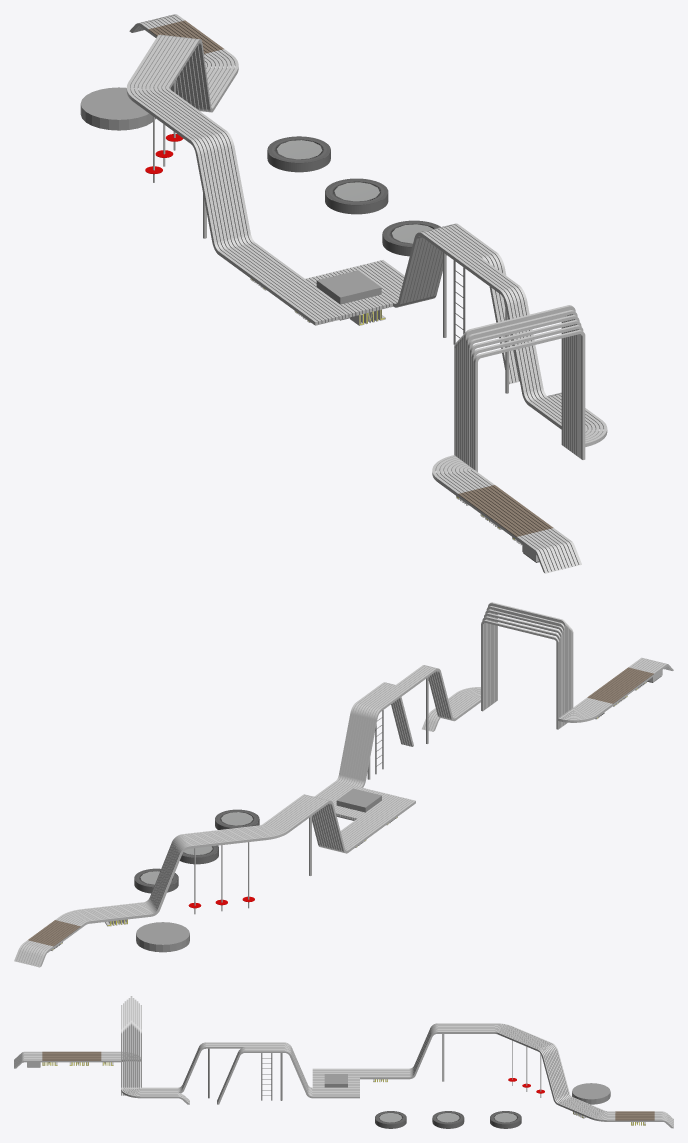
3 views of the same model, one above another, from view 1: azimuth 30°, elevation 25°; view 2: azimuth 150°, elevation 25°; view 3: azimuth 270°, elevation 25° (orthographic). The views are drawn at different scales.
Visible parts, largest first — view 1: Mesh7773; view 2: Mesh7773; view 3: Mesh7773.
Part boxes in pixels (x1,y1,x2,y2): Mesh7773: (80, 14, 607, 573); Mesh7773: (14, 602, 673, 967); Mesh7773: (14, 996, 673, 1128).
Size of the model in its own units: 1188 by 618 by 4845.
